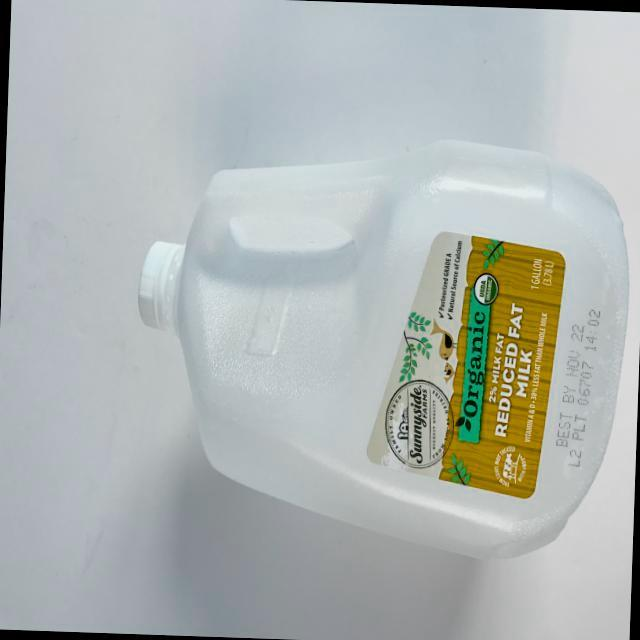plastic: (118, 98, 640, 575)
